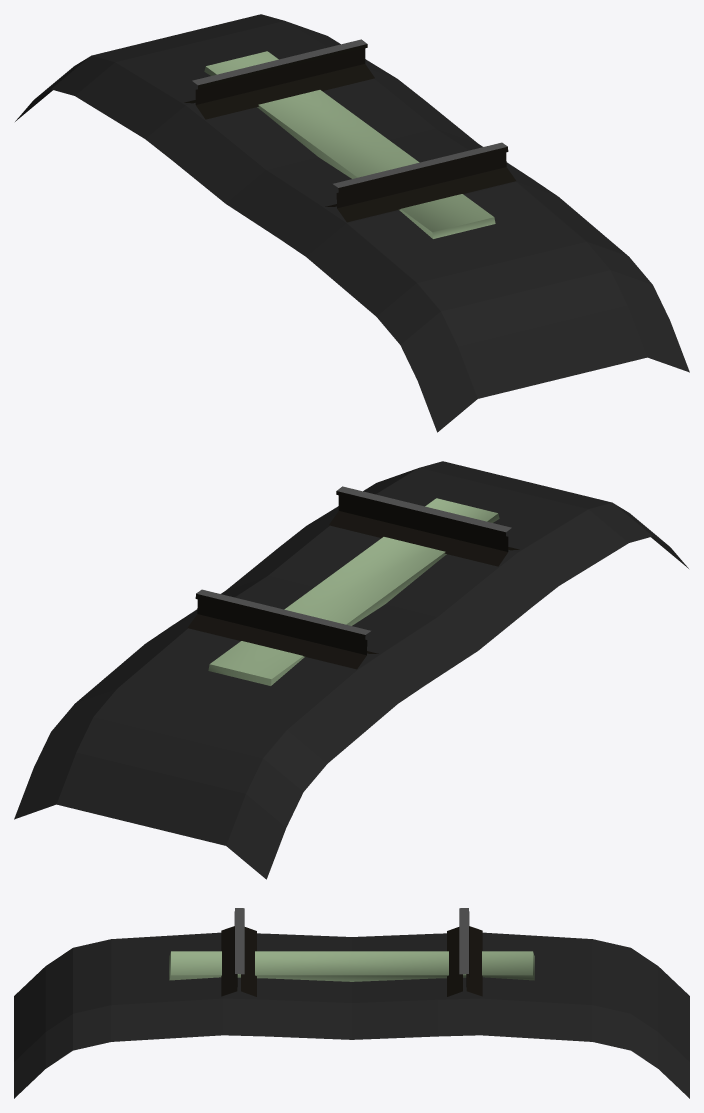
Rendered from Rail_Beton_1.obj.
The picture shows the model from 3 angles, top to bottom: view 1: azimuth 30°, elevation 25°; view 2: azimuth 150°, elevation 25°; view 3: azimuth 270°, elevation 25°; orthographic projection. The views are drawn at different scales.
Visible parts, largest first — view 1: Plane.002, Plane.001; view 2: Plane.002, Plane.001; view 3: Plane.002, Plane.001.
Part boxes in pixels (bbox=[...]): Plane.002: bbox=[15, 14, 689, 432]; Plane.001: bbox=[184, 39, 515, 238]; Plane.002: bbox=[14, 461, 688, 879]; Plane.001: bbox=[188, 486, 519, 685]; Plane.002: bbox=[14, 932, 689, 1098]; Plane.001: bbox=[169, 908, 534, 996].
Bounding box in the file's own units: 1.49 × 0.7618 × 4.32.
